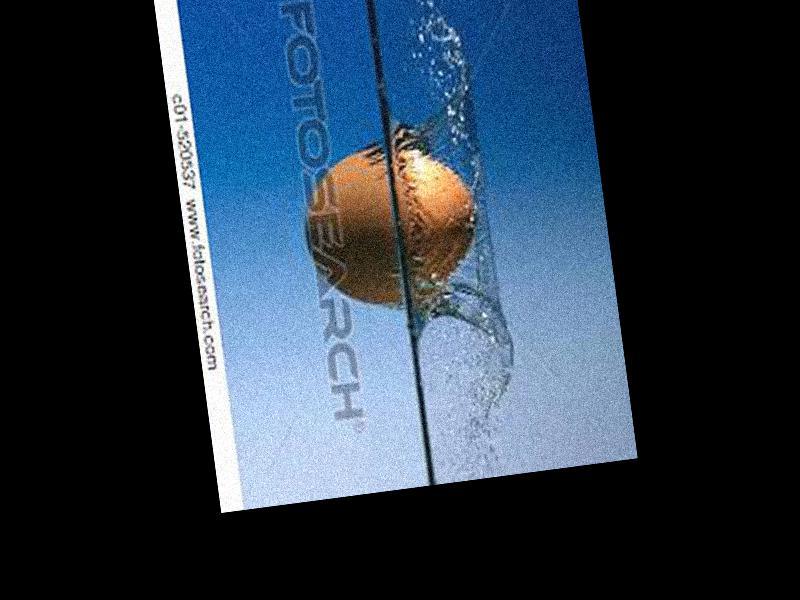Eggs: (298, 136, 487, 314)
